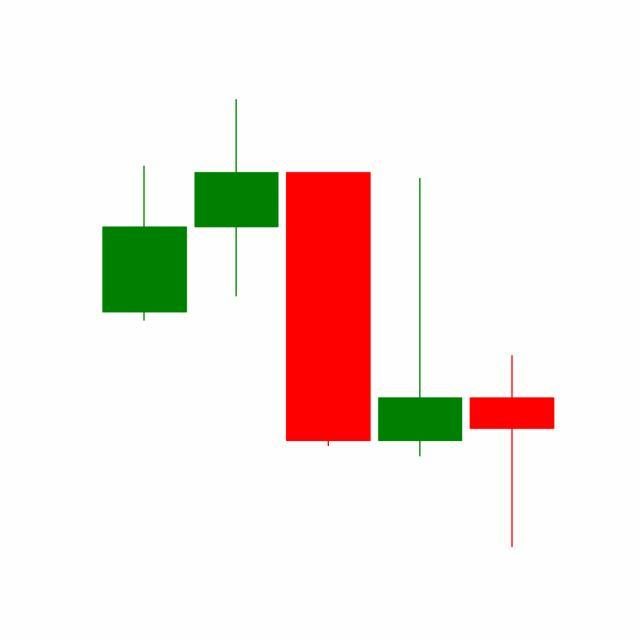Spinning Top: (466, 354, 559, 551)
